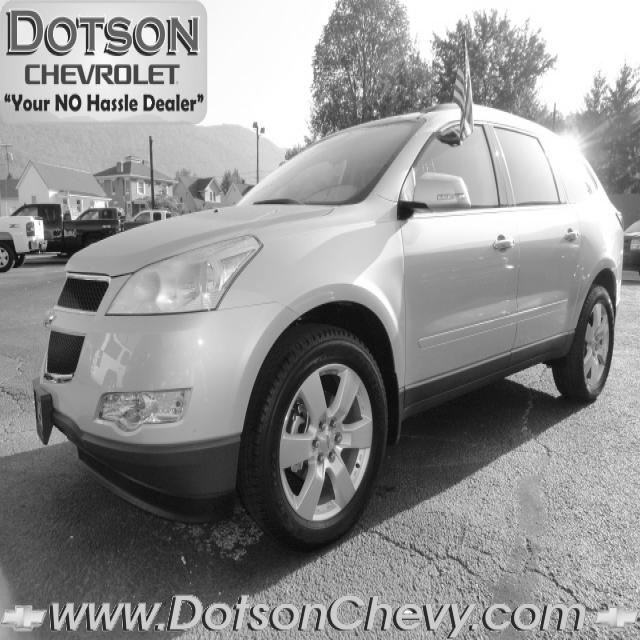car: (32, 101, 624, 550), (622, 218, 639, 266)
